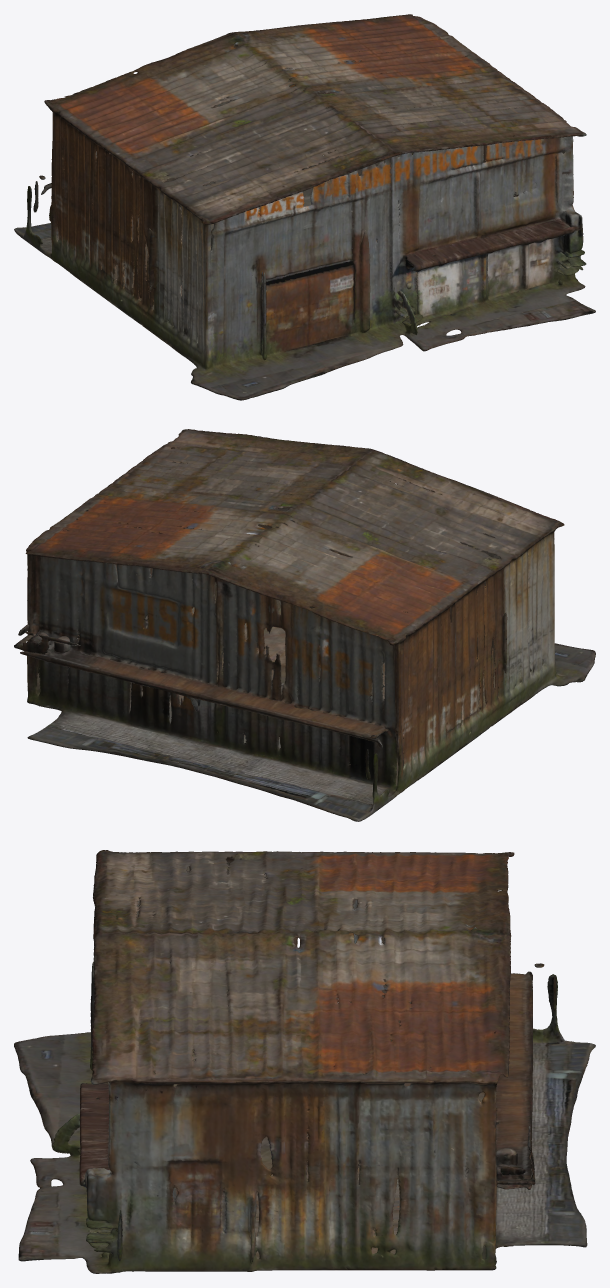
Rendered from Bills_warehouse.glb.
3 renders of one model, top to bottom at view 1: azimuth 30°, elevation 25°; view 2: azimuth 150°, elevation 25°; view 3: azimuth 270°, elevation 25°, orthographic. The views are drawn at different scales.
Visible parts, largest first — view 1: Mesh_0; view 2: Mesh_0; view 3: Mesh_0.
Part boxes in pixels (bbox=[...]): Mesh_0: bbox=[14, 14, 595, 400]; Mesh_0: bbox=[14, 429, 595, 821]; Mesh_0: bbox=[14, 850, 595, 1273].
Size of the model in its own units: 4.6 by 2 by 4.62.
Materials: 1 (1 with a texture image).
